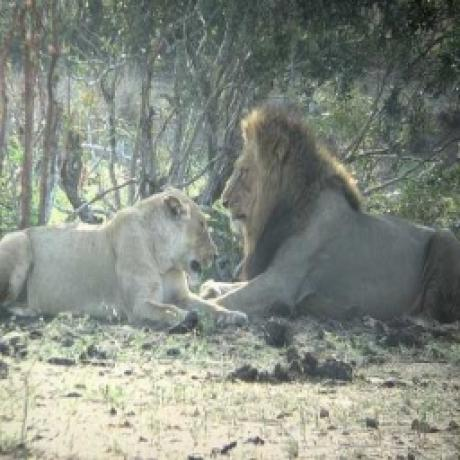Lion: (220, 99, 460, 326), (0, 185, 241, 331)
